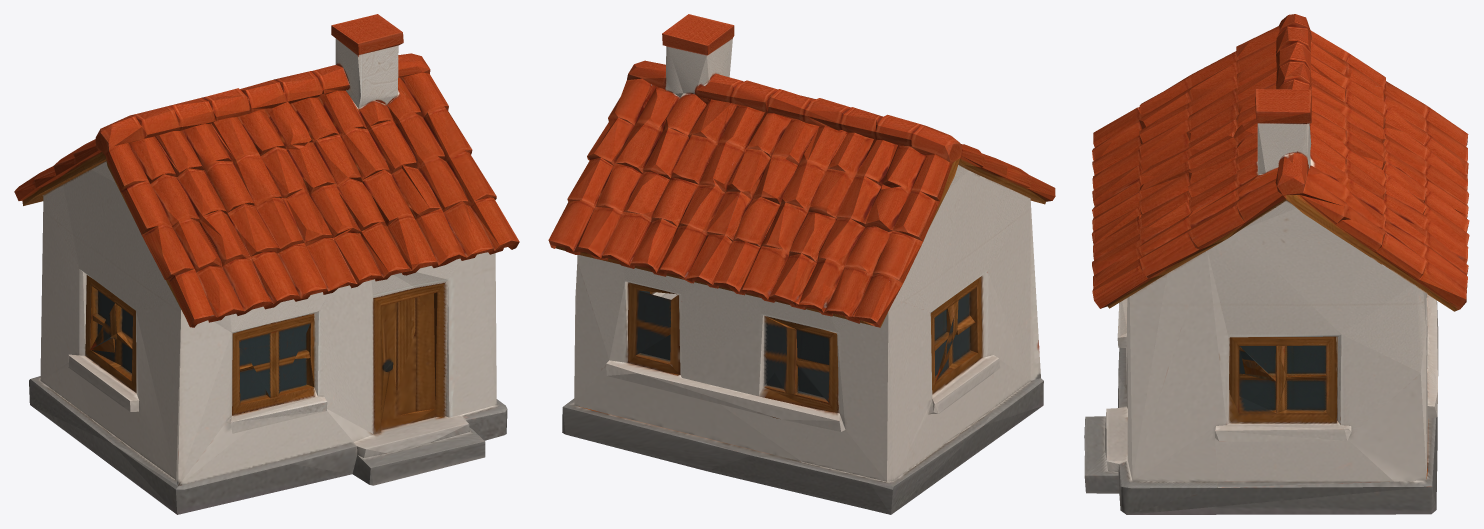
The model's file is house.glb.
3 views of the same model, side by side, from view 1: azimuth 30°, elevation 25°; view 2: azimuth 150°, elevation 25°; view 3: azimuth 270°, elevation 25° (orthographic). The views are drawn at different scales.
Visible parts, largest first — view 1: output_unwrapped; view 2: output_unwrapped; view 3: output_unwrapped.
Part boxes in pixels (<box>): output_unwrapped: <box>14,14,519,514</box>; output_unwrapped: <box>548,14,1055,514</box>; output_unwrapped: <box>1084,14,1469,514</box>.
Size of the model in its own units: 1.81 by 1.9 by 1.73.
Materials: 1 (1 with a texture image).
